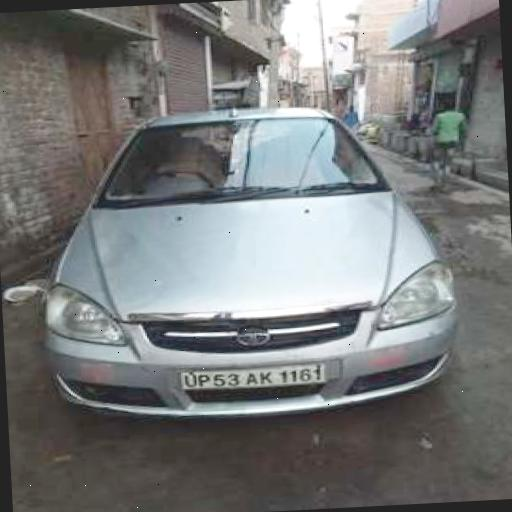license_plate`: (178, 362, 324, 391)
